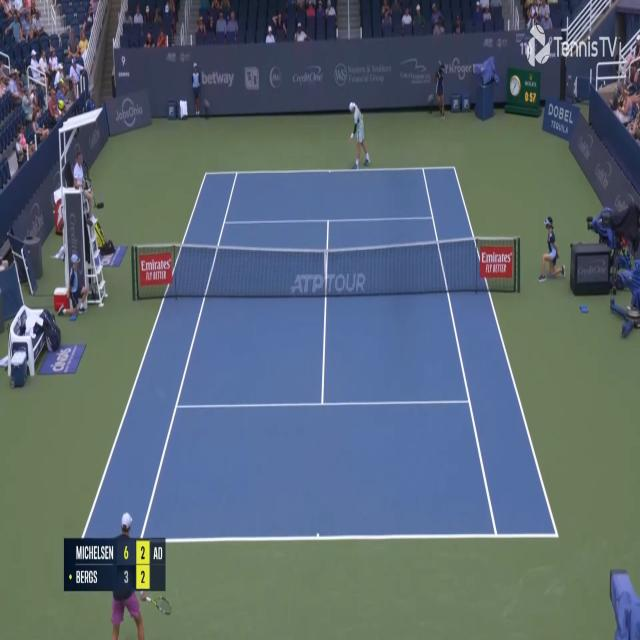tennis-player: (108, 505, 172, 639), (346, 98, 372, 171)
